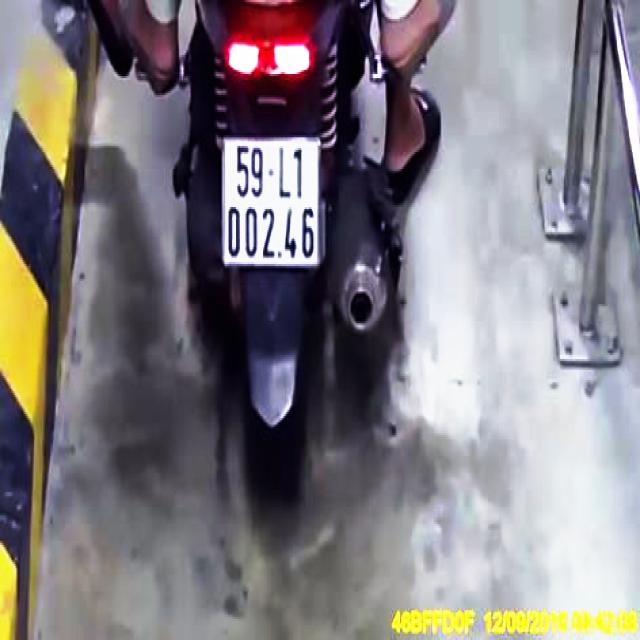license_plate: (225, 142, 322, 269)
